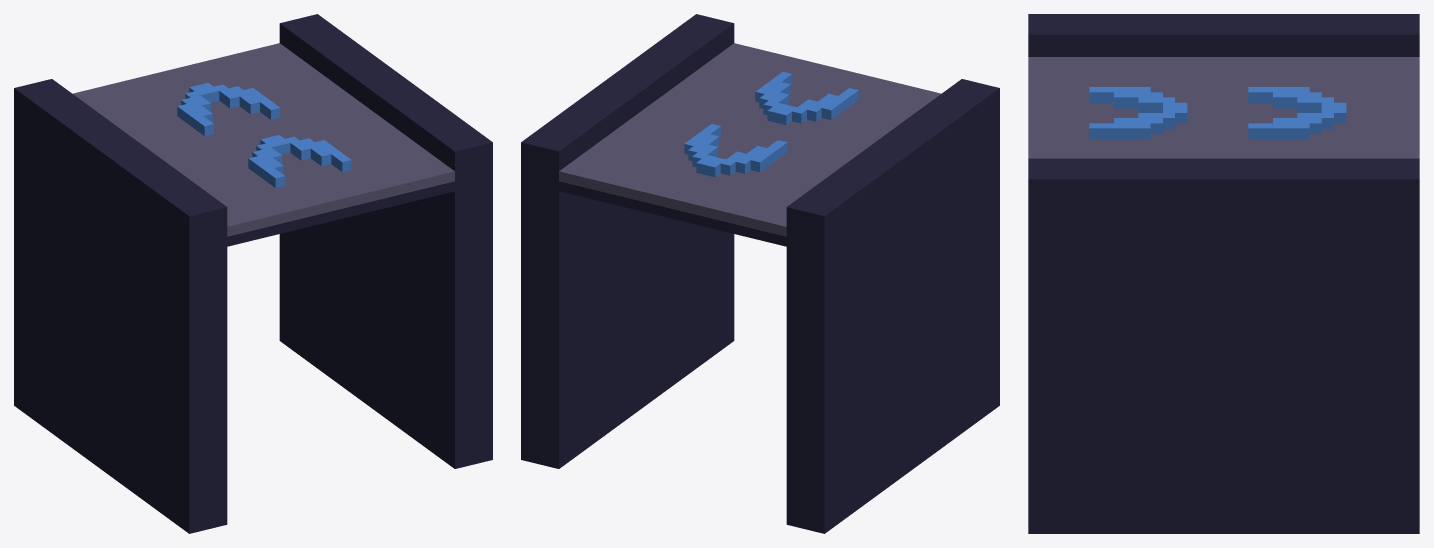
File: medium_conveyer.obj
The picture shows the model from 3 angles, left to right: view 1: azimuth 30°, elevation 25°; view 2: azimuth 150°, elevation 25°; view 3: azimuth 270°, elevation 25°; orthographic projection. The views are drawn at different scales.
Bounding box in the file's own units: 3.2 × 3.2 × 3.2.
1 material, 1 textured.
